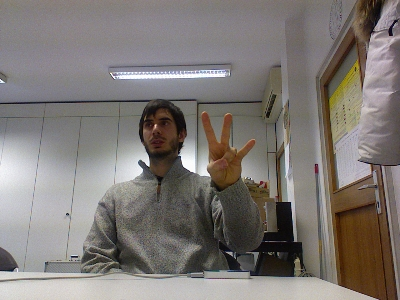观音: (199, 110, 256, 191)
